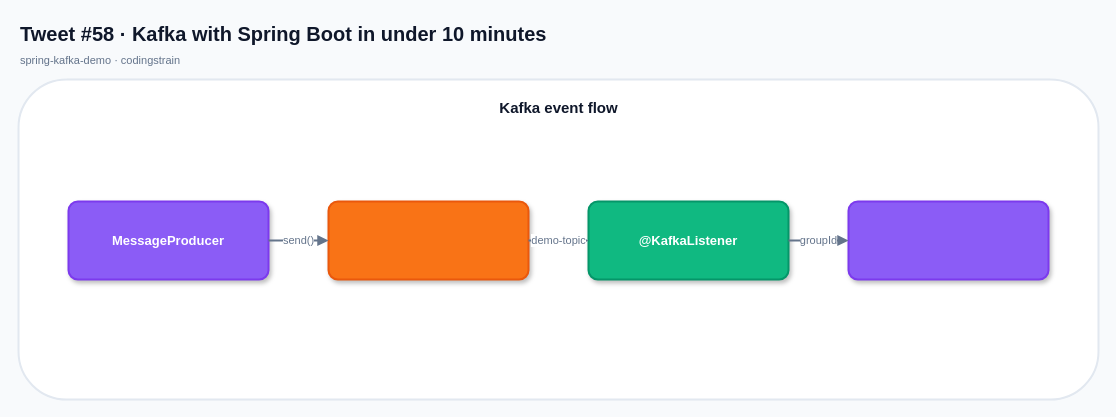
Some shapes in this 1116 by 417 pixel diagram are drawn without their labels. Each missing label, with the centre of its shape:
"Consumer logic" goes at point 949,241.
"Kafka Topic" goes at point 429,241.
